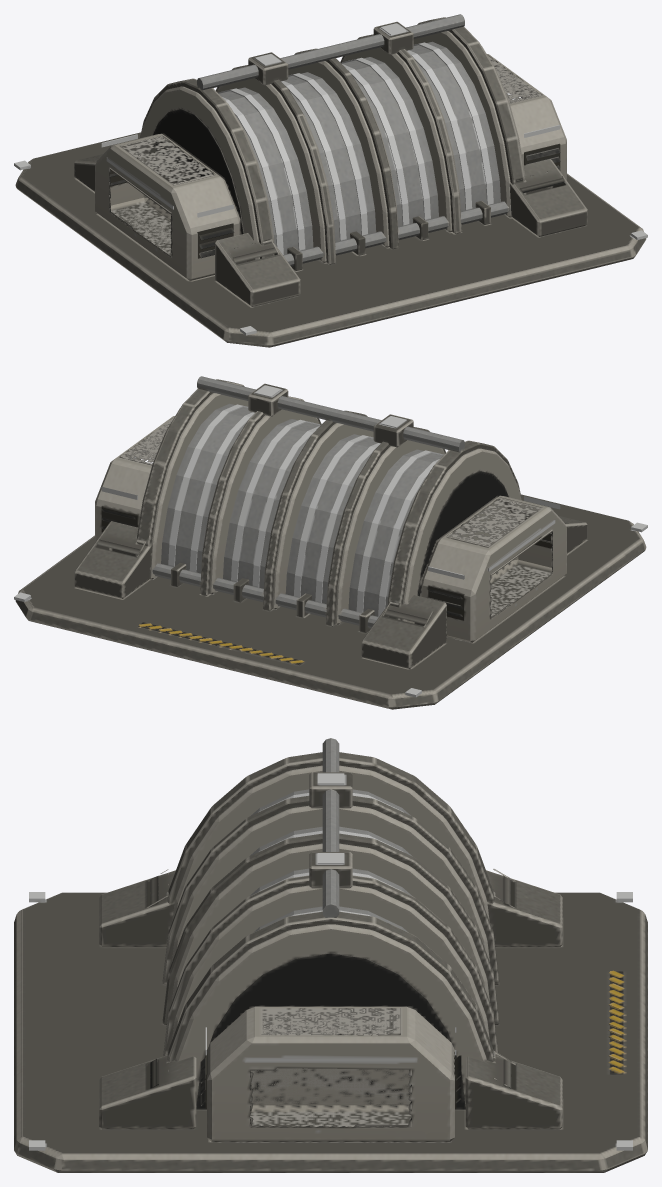
Rendered from ord_advconverter.fbx.
3 views of the same model, one above another, from view 1: azimuth 30°, elevation 25°; view 2: azimuth 150°, elevation 25°; view 3: azimuth 270°, elevation 25° (orthographic). The views are drawn at different scales.
Parts seen in each view (by area): view 1: base_bar, coil_bar, coil_glow_power_bar, base_glow_running_bar, base_glow_power_bar; view 2: base_bar, coil_bar, coil_glow_power_bar, base_glow_running_bar, base_glow_power_bar; view 3: base_bar, base_glow_running_bar, coil_bar, coil_glow_power_bar.
Part boxes in pixels (<box>): base_bar: <box>15,14,646,347</box>; coil_bar: <box>219,41,500,254</box>; coil_glow_power_bar: <box>218,42,493,254</box>; base_glow_running_bar: <box>14,23,647,335</box>; base_glow_power_bar: <box>101,125,560,217</box>; base_bar: <box>15,376,646,709</box>; coil_bar: <box>161,403,442,616</box>; coil_glow_power_bar: <box>168,404,443,616</box>; base_glow_running_bar: <box>14,385,647,697</box>; base_glow_power_bar: <box>101,487,560,579</box>; base_bar: <box>14,738,647,1172</box>; base_glow_running_bar: <box>29,773,632,1150</box>; coil_bar: <box>249,789,412,932</box>; coil_glow_power_bar: <box>258,793,403,916</box>.
Bounding box in the file's own units: 2352 × 1110 × 2352.
2 materials, 2 textured.
